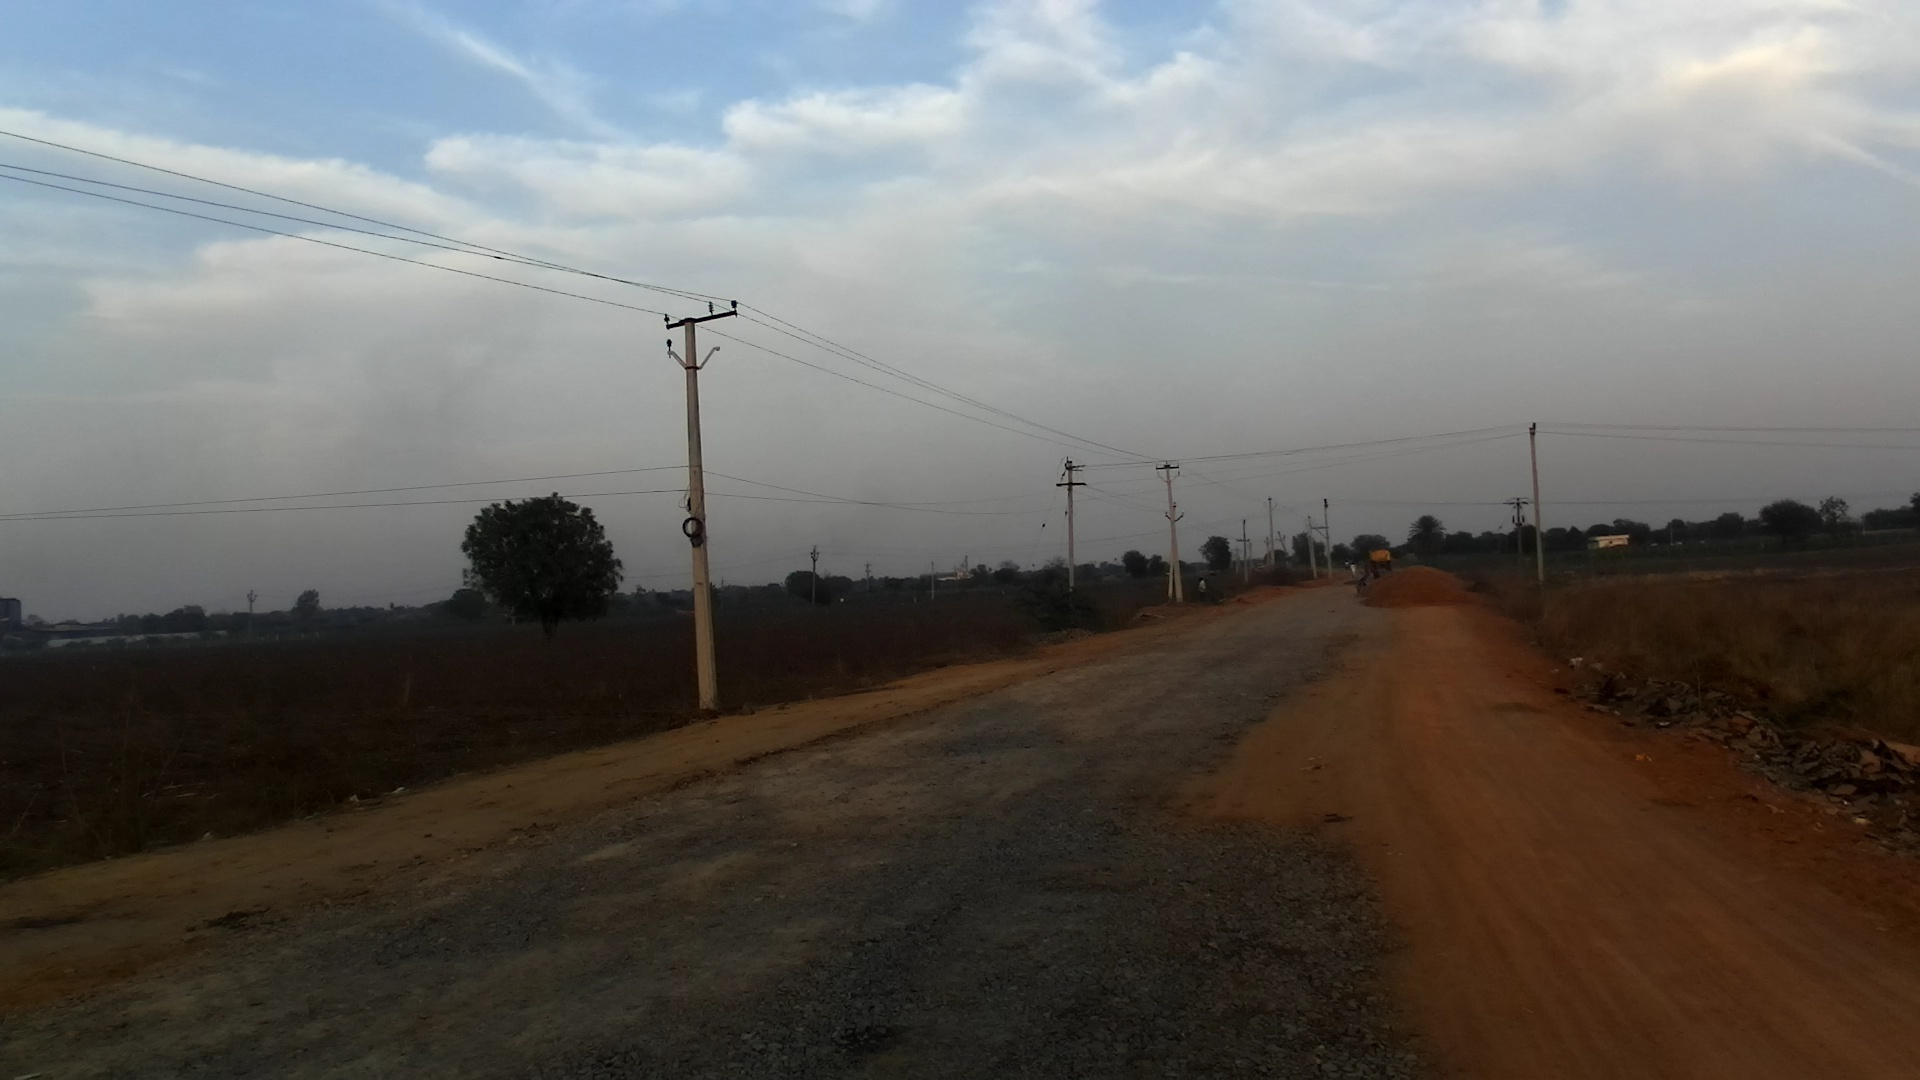person: (1195, 577, 1211, 601), (1348, 563, 1357, 576)
truck: (1365, 549, 1397, 576)
